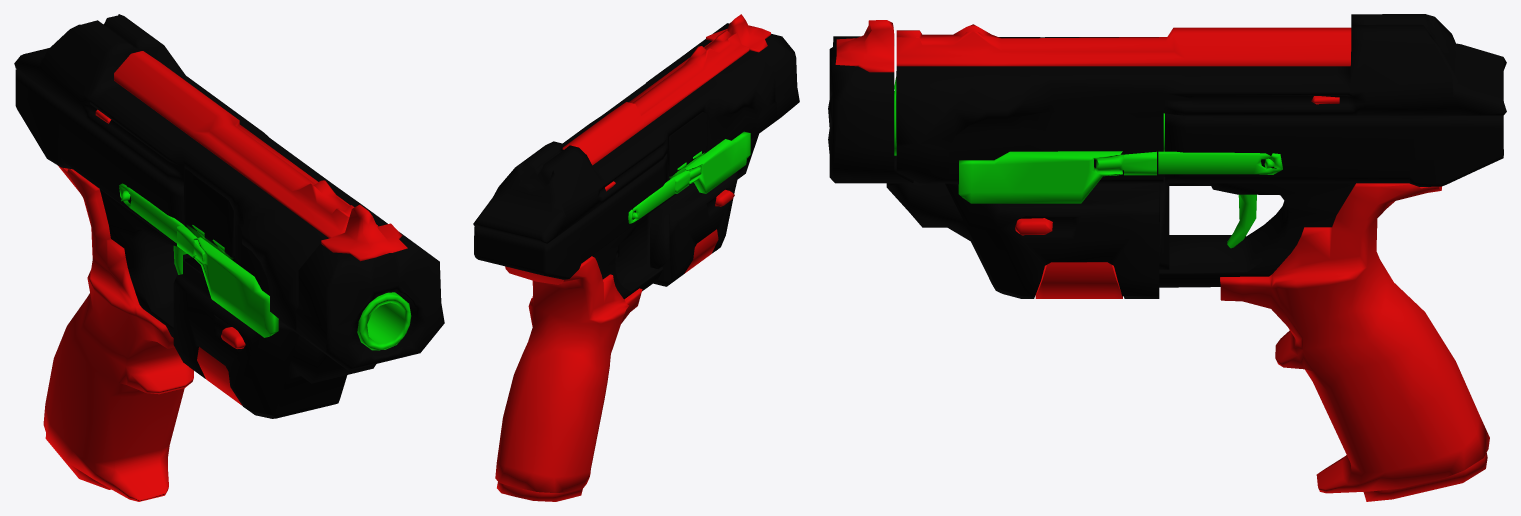
Rendered from SM_Pistol.FBX.
3 renders of one model, left to right at view 1: azimuth 30°, elevation 25°; view 2: azimuth 150°, elevation 25°; view 3: azimuth 270°, elevation 25°, orthographic. The views are drawn at different scales.
Parts seen in each view (by area): view 1: SM_Pistol; view 2: SM_Pistol; view 3: SM_Pistol.
Part boxes in pixels (box(x1,y1,x2,y2)): SM_Pistol: box(14, 14, 444, 501); SM_Pistol: box(473, 14, 799, 501); SM_Pistol: box(828, 14, 1506, 501).
Size of what is drawn, in the model's own units: 5.33 by 24.44 by 18.57.
